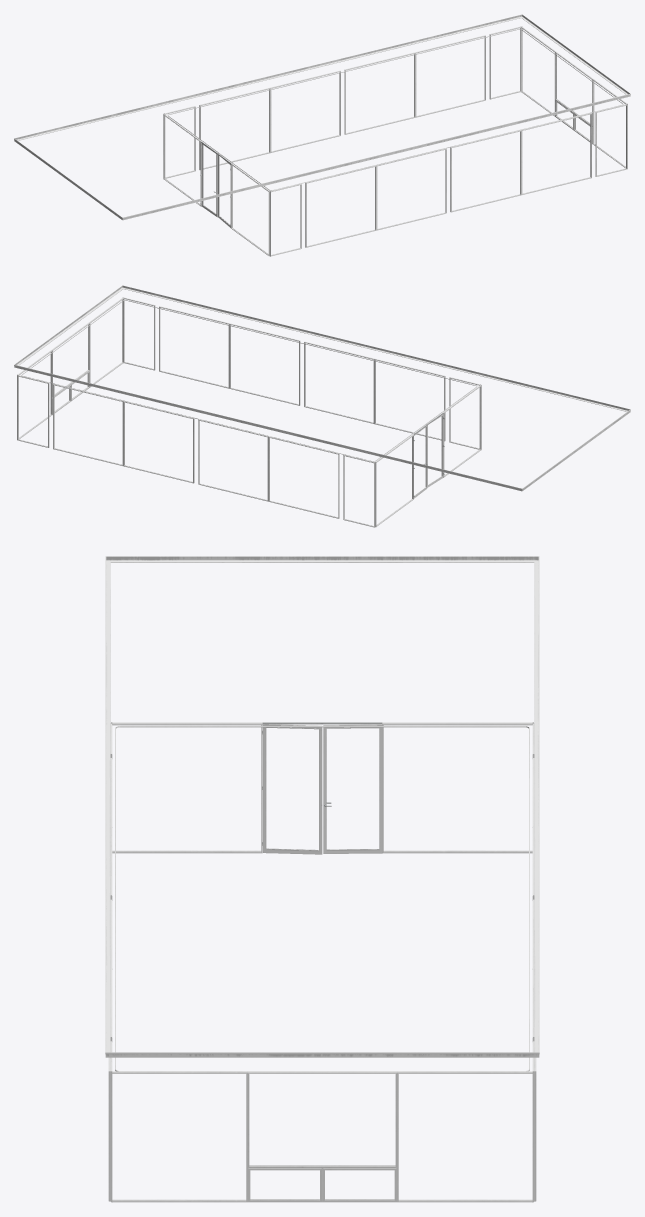
The model's file is Frames.fbx.
The picture shows the model from 3 angles, top to bottom: view 1: azimuth 30°, elevation 25°; view 2: azimuth 150°, elevation 25°; view 3: azimuth 270°, elevation 25°; orthographic projection. The views are drawn at different scales.
Visible parts, largest first — view 1: MeshBaker__7__mesh_mesh; view 2: MeshBaker__7__mesh_mesh; view 3: MeshBaker__7__mesh_mesh.
Part boxes in pixels (<box>): MeshBaker__7__mesh_mesh: <box>14,14,630,256</box>; MeshBaker__7__mesh_mesh: <box>14,285,630,527</box>; MeshBaker__7__mesh_mesh: <box>105,556,539,1202</box>.
Bounding box in the file's own units: 2355 × 335 × 871.
